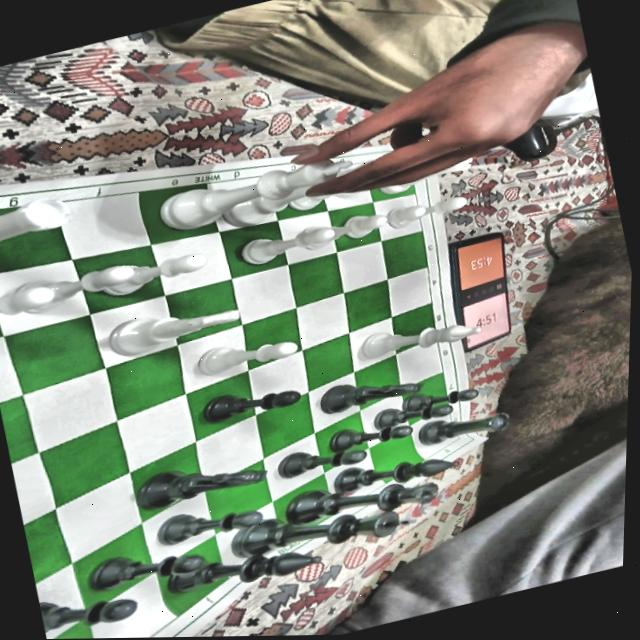BlackBishop: (162, 529, 328, 603), (327, 440, 462, 499)
BlackKing: (225, 484, 419, 573)
BlackKnight: (131, 445, 271, 514), (315, 363, 426, 416)
BlackPawn: (81, 535, 209, 595), (150, 493, 267, 552), (195, 375, 305, 429), (38, 580, 139, 637), (274, 434, 369, 481), (325, 411, 416, 456), (370, 395, 455, 432), (401, 377, 482, 415)
BlackQueen: (277, 459, 447, 538)
BlackRook: (415, 401, 510, 449), (48, 618, 188, 639)
WhiteBishop: (354, 306, 486, 364)
WhiteKing: (156, 150, 358, 236)
WhiteKnight: (102, 290, 247, 360)
WhitePawn: (16, 256, 135, 315), (94, 242, 211, 300), (193, 326, 300, 377), (235, 219, 338, 268), (298, 207, 391, 251), (340, 199, 430, 241), (387, 189, 472, 230), (0, 274, 61, 331)
WhiteRook: (0, 189, 74, 261), (371, 151, 479, 198)
